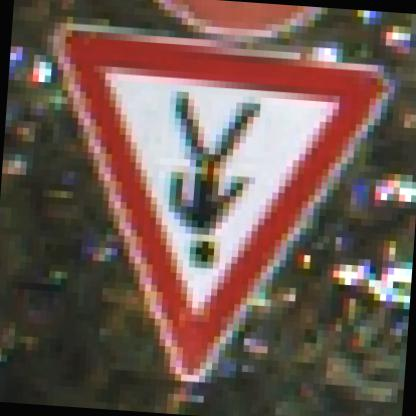crosswalk: (25, 19, 388, 394)
